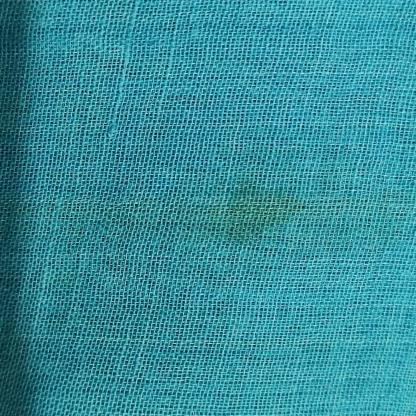spot: (211, 174, 305, 239)
